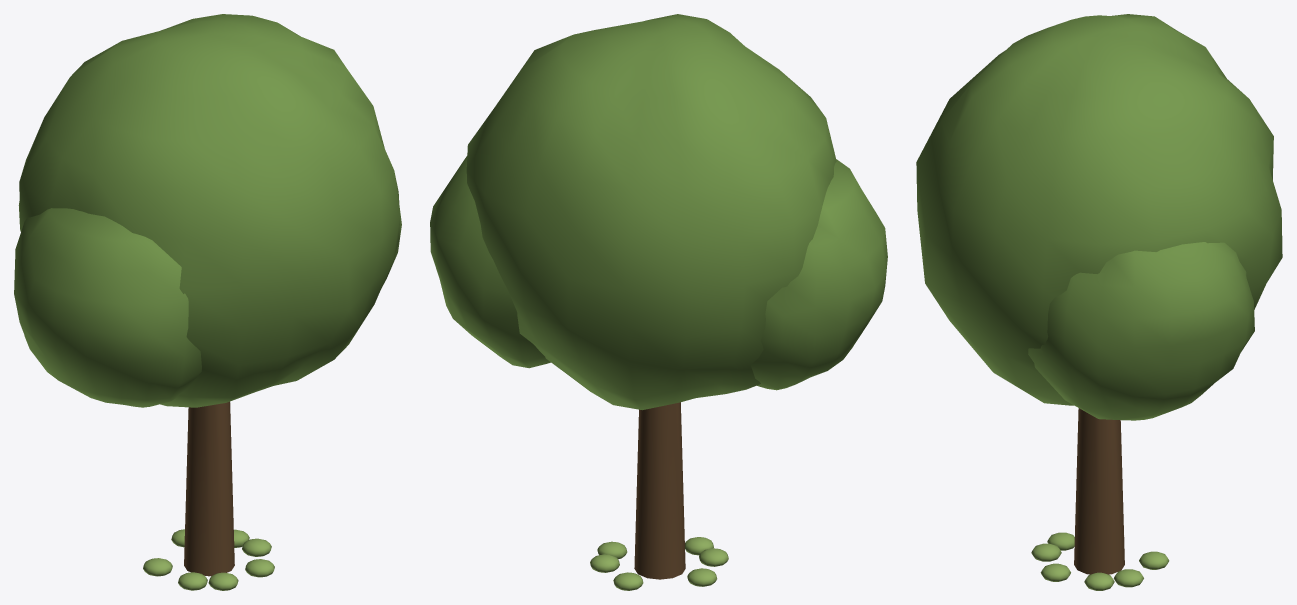
The model's file is tree_big.glb.
3 renders of one model, left to right at view 1: azimuth 30°, elevation 25°; view 2: azimuth 150°, elevation 25°; view 3: azimuth 270°, elevation 25°, orthographic.
Parts seen in each view (by area): view 1: tree_big; view 2: tree_big; view 3: tree_big.
Boxes of the visible parts, left/top/right/bottom form: tree_big: left=14, top=14, right=401, bottom=590; tree_big: left=430, top=14, right=887, bottom=590; tree_big: left=916, top=14, right=1282, bottom=590.
Size of the model in its own units: 2.66 by 3.45 by 2.15.
